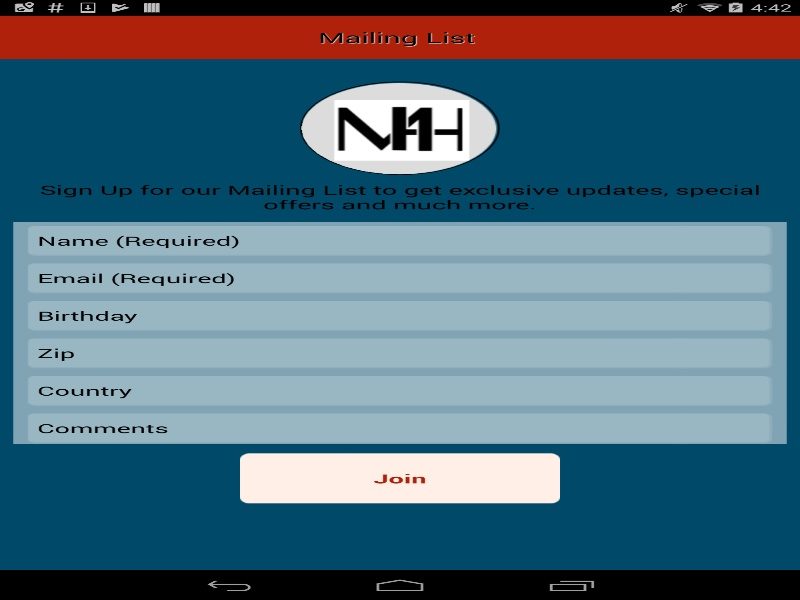Button: (240, 453, 560, 503)
Input: (26, 262, 773, 294), (26, 337, 773, 369), (26, 412, 773, 444), (26, 225, 773, 256)
